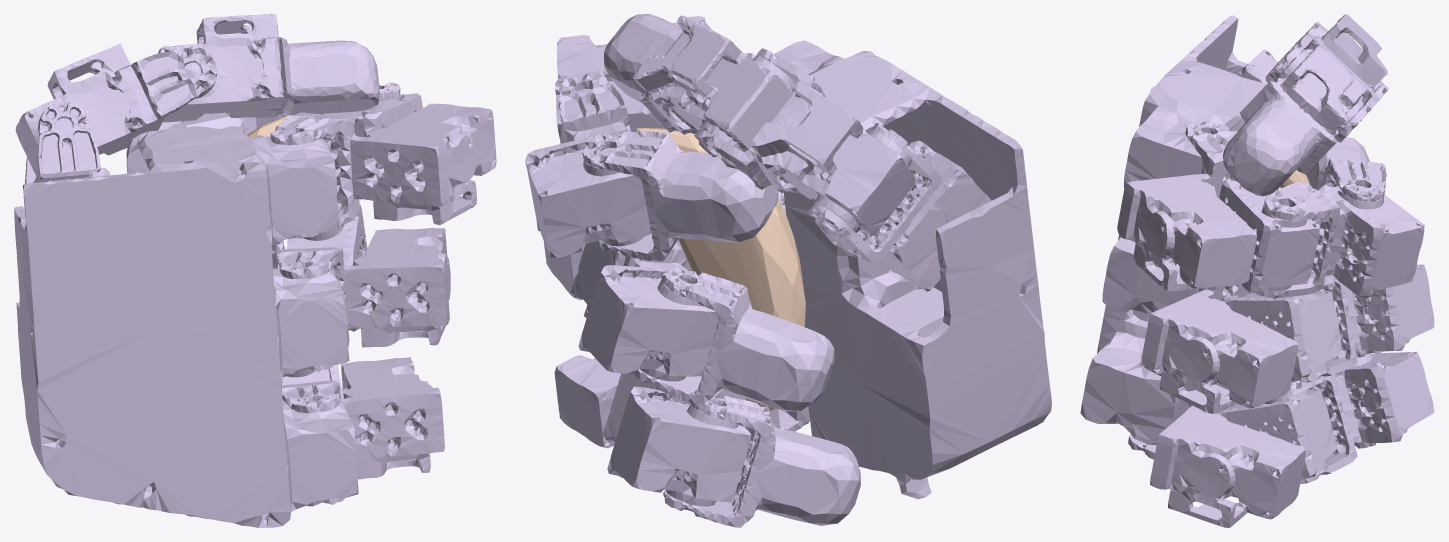
Rendered from 05a295cc8c402b-closed.glb.
3 views of the same model, side by side, from view 1: azimuth 30°, elevation 25°; view 2: azimuth 150°, elevation 25°; view 3: azimuth 270°, elevation 25° (orthographic). The views are drawn at different scales.
Parts seen in each view (by area): view 1: LEAP_hand; view 2: LEAP_hand, world; view 3: LEAP_hand.
Boxes of the visible parts, bbox=[...] form: LEAP_hand: bbox=[14, 14, 496, 527]; LEAP_hand: bbox=[525, 14, 1051, 527]; world: bbox=[636, 128, 805, 410]; LEAP_hand: bbox=[1080, 14, 1434, 527].
Bounding box in the file's own units: 0.1719 × 0.1586 × 0.1244.
